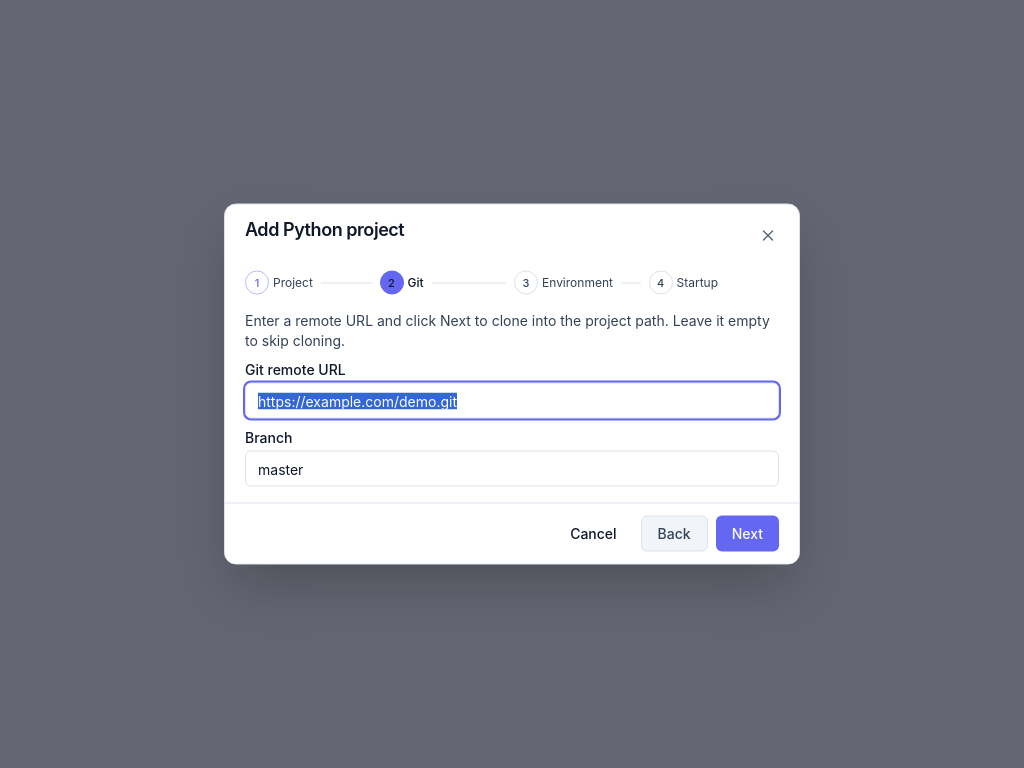
explains Git directory failure DEPLOYMENT_GIT_TARGET_NOT_EMPTY without advancing the wizard
Press the mouse on the button "Next" at (747, 534), box [716,516,779,552]
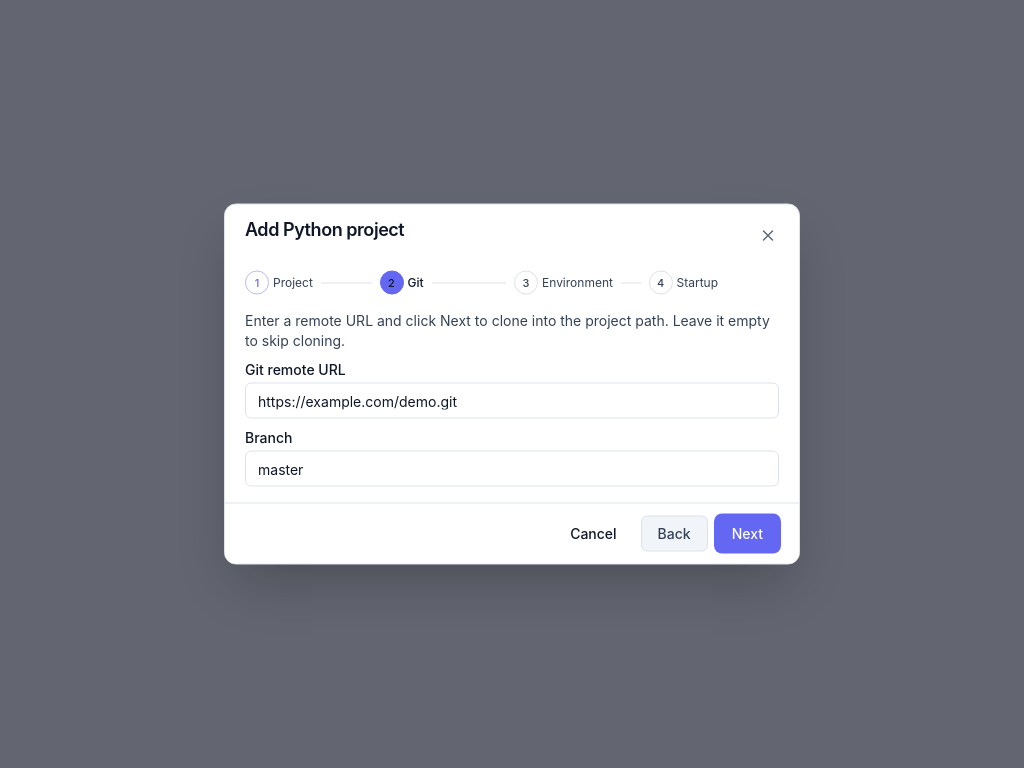
Click the button "Next". click: (747, 534)
box: [716,516,779,552]
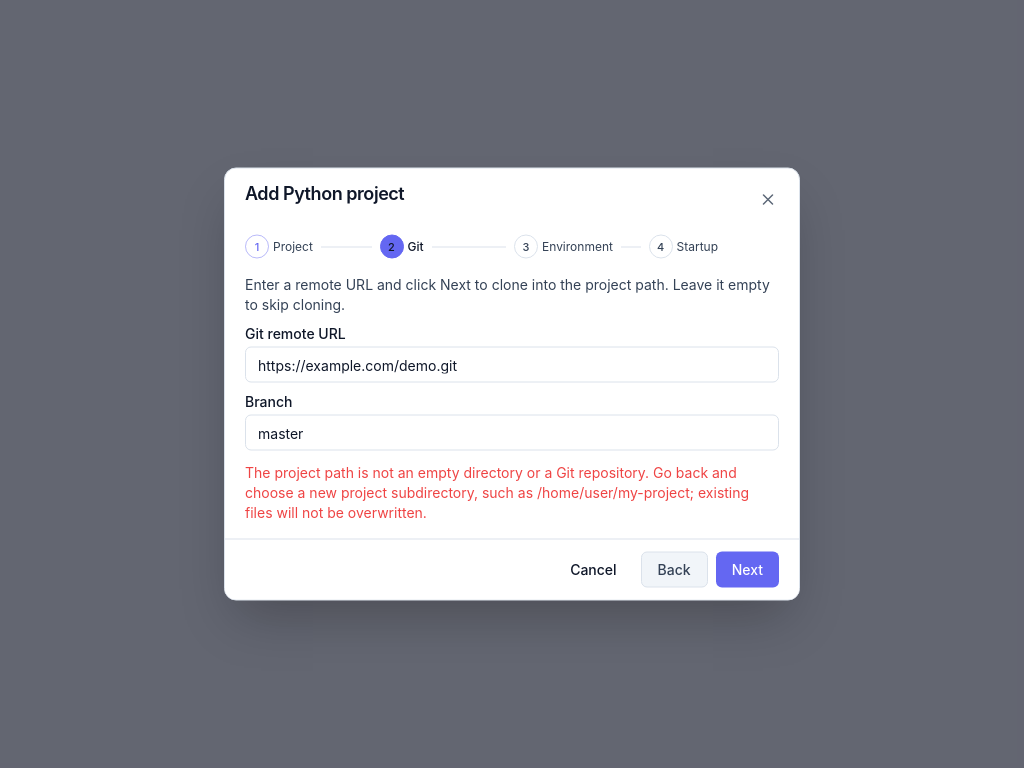
Expected: the text "The project path is not an empty directory or a Git repository. Go back and choose a new project subdirectory, such as /home/user/my-project; existing files wil" is shown, [245,464,749,520]
